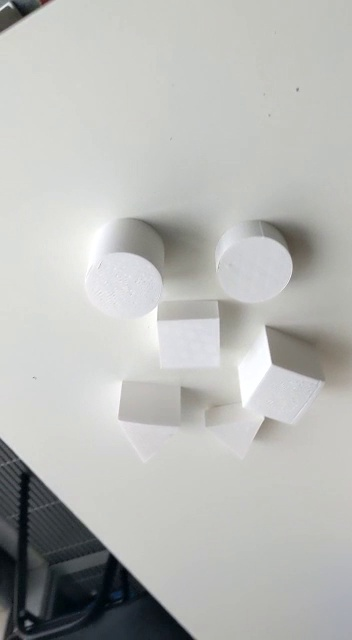Clyinder_short: (210, 217, 294, 307)
Cube: (236, 323, 325, 426)
Cube_short: (152, 294, 227, 371)
Cylinder: (82, 215, 167, 322)
Triangle: (115, 375, 181, 463)
Triangle_short: (203, 396, 267, 464)
